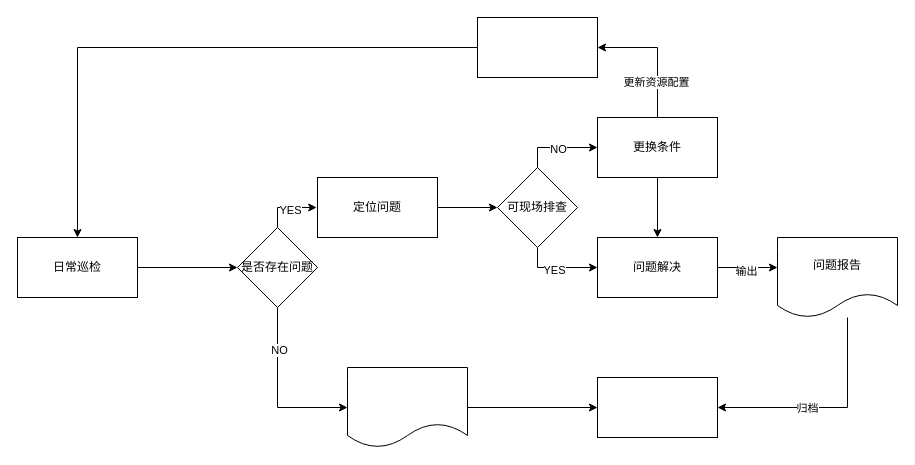
Some shapes in this 915 by 465 pixel diagram are drawn without their labels. Each missing label, with the centre of its shape:
"运检报告" belongs at (407,407).
"运维文件" belongs at (657,407).
"运维资料建档" belongs at (537,47).
